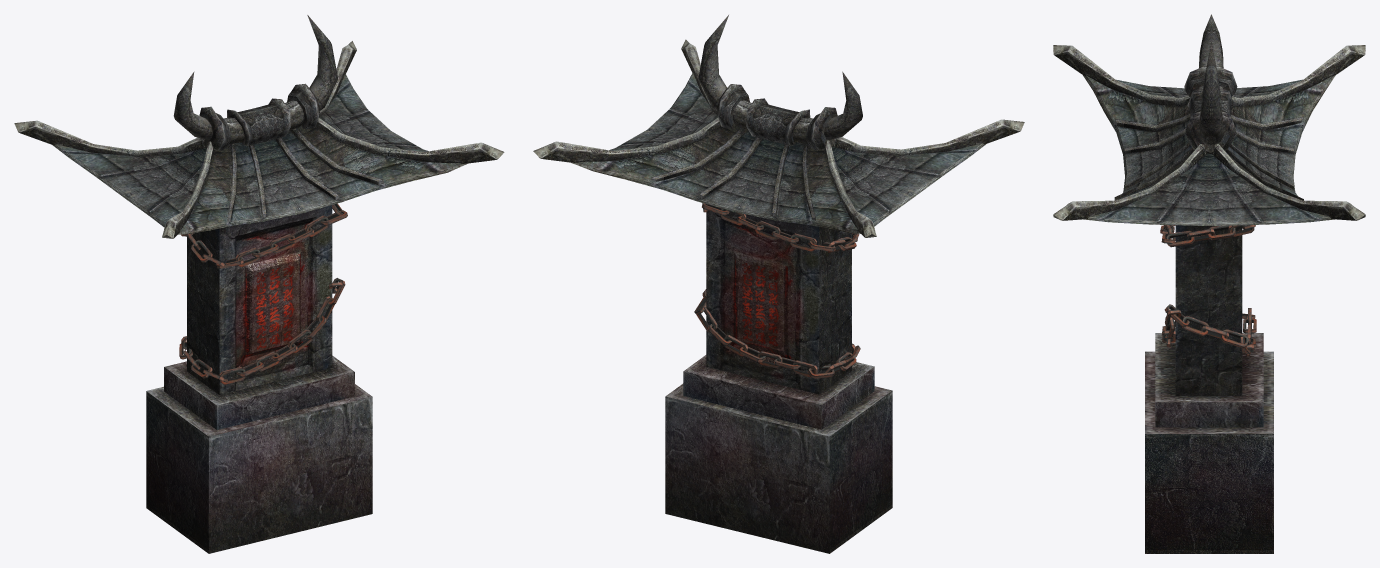
File: dragon_gate.glb
The picture shows the model from 3 angles, left to right: view 1: azimuth 30°, elevation 25°; view 2: azimuth 150°, elevation 25°; view 3: azimuth 270°, elevation 25°; orthographic projection. The views are drawn at different scales.
Parts seen in each view (by area): view 1: dragon_gate; view 2: dragon_gate; view 3: dragon_gate.
Boxes of the visible parts, box(x1,y1,x2,y2) form: dragon_gate: box(14, 15, 504, 553); dragon_gate: box(533, 15, 1024, 553); dragon_gate: box(1053, 14, 1365, 553).
Size of the model in its own units: 10.72 by 14.66 by 8.35.
1 material, 1 textured.
